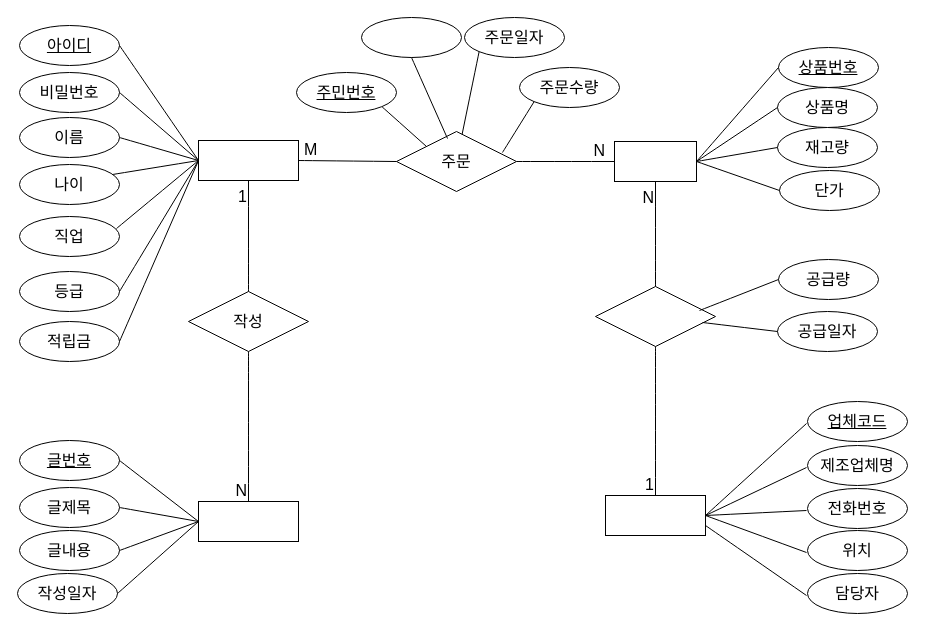
Some shapes in this 925 by 631 pixel diagram are drawn without their labels. The shapes that lost their labels are listed below. From the top down, each one's centre as x and y in pixels, then its label:
point 411,37: 배송지
point 248,160: 회원
point 655,161: 상품
point 655,316: 공급
point 248,521: 게시글
point 655,515: 제조업체
